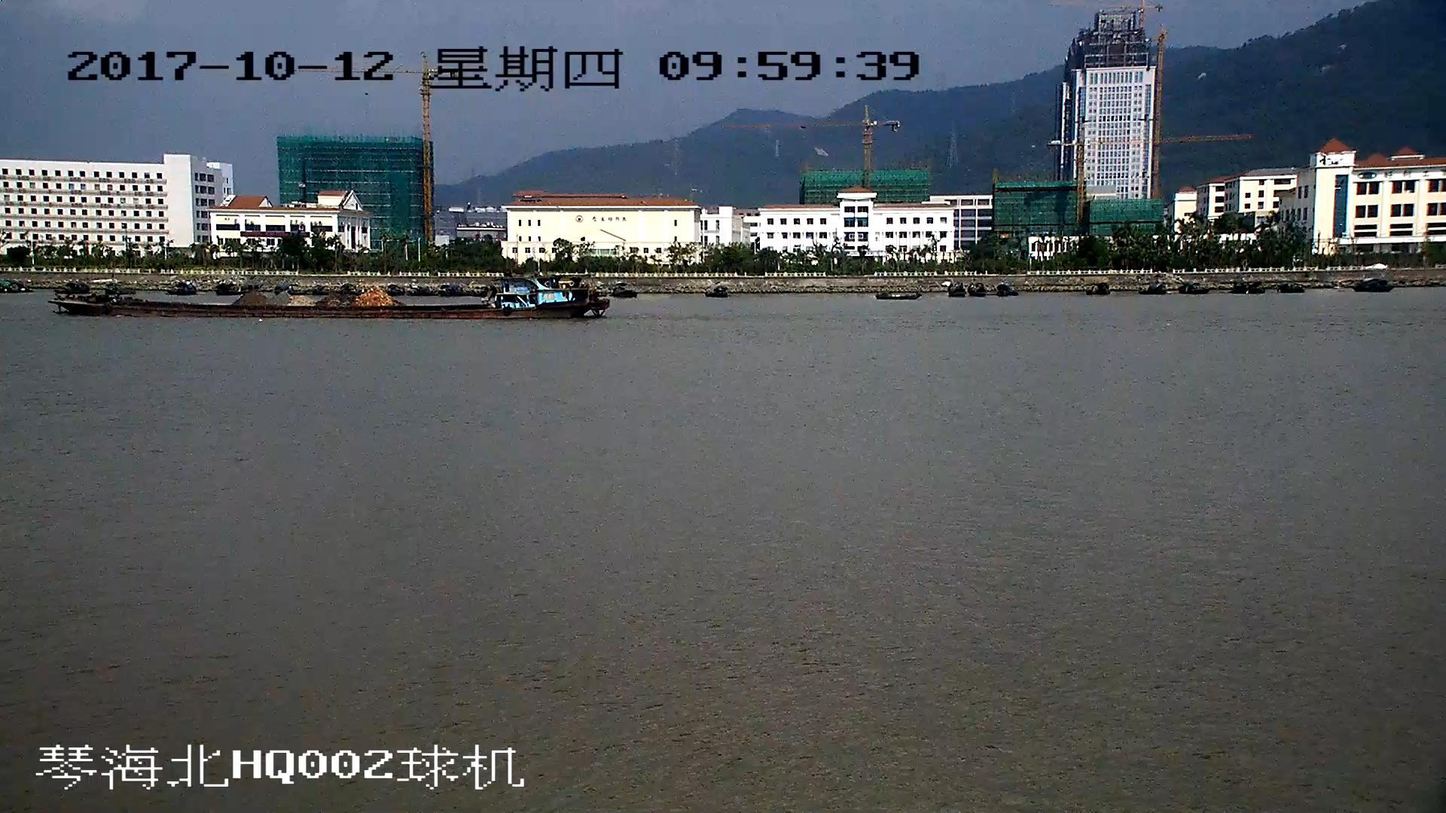ore carrier: (52, 270, 608, 324)
